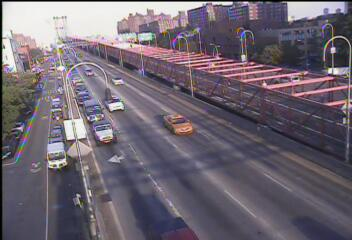neg: (283, 28, 312, 68), (167, 29, 196, 68), (258, 176, 287, 215), (153, 107, 181, 144), (303, 102, 330, 137), (237, 120, 262, 154), (62, 95, 87, 128), (34, 137, 58, 168), (47, 54, 70, 84), (83, 158, 106, 188), (129, 173, 151, 203), (249, 58, 268, 83), (172, 183, 191, 208), (121, 38, 135, 57), (64, 19, 76, 35)
